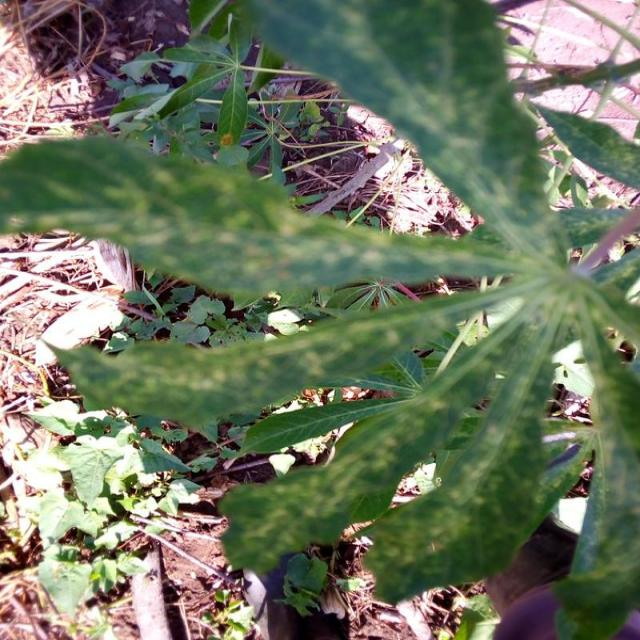cassava leaf: (15, 0, 638, 635), (1, 132, 508, 308)
